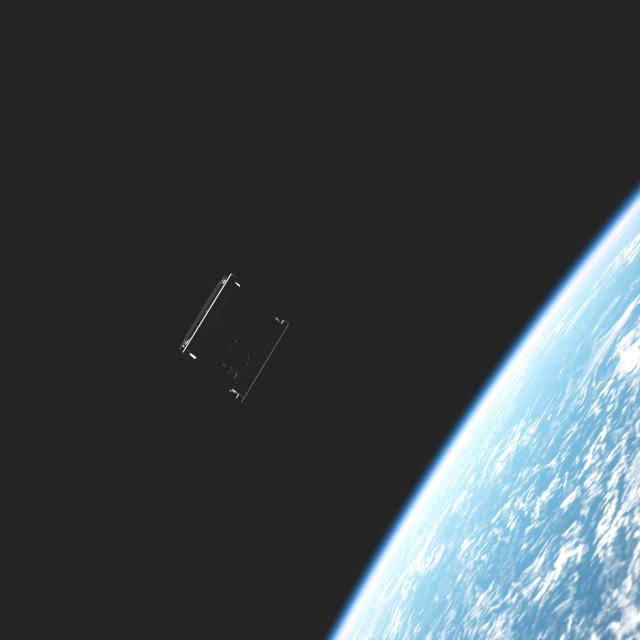medium_debris: (176, 275, 291, 408)
